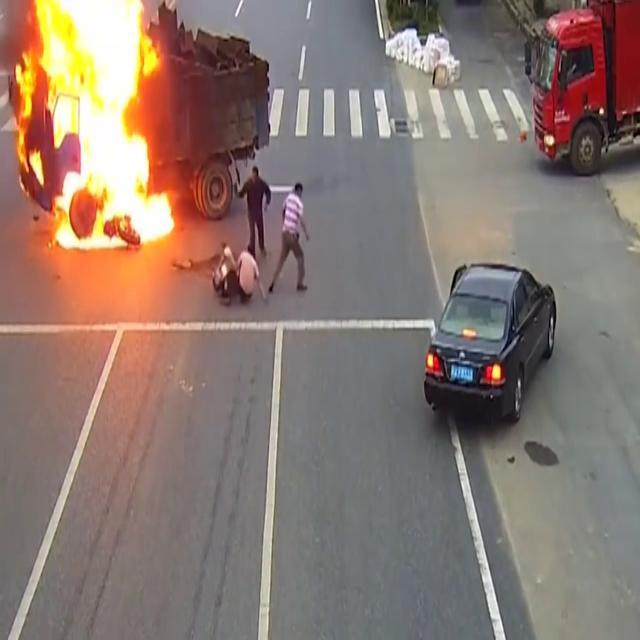Fire: (10, 0, 178, 252)
